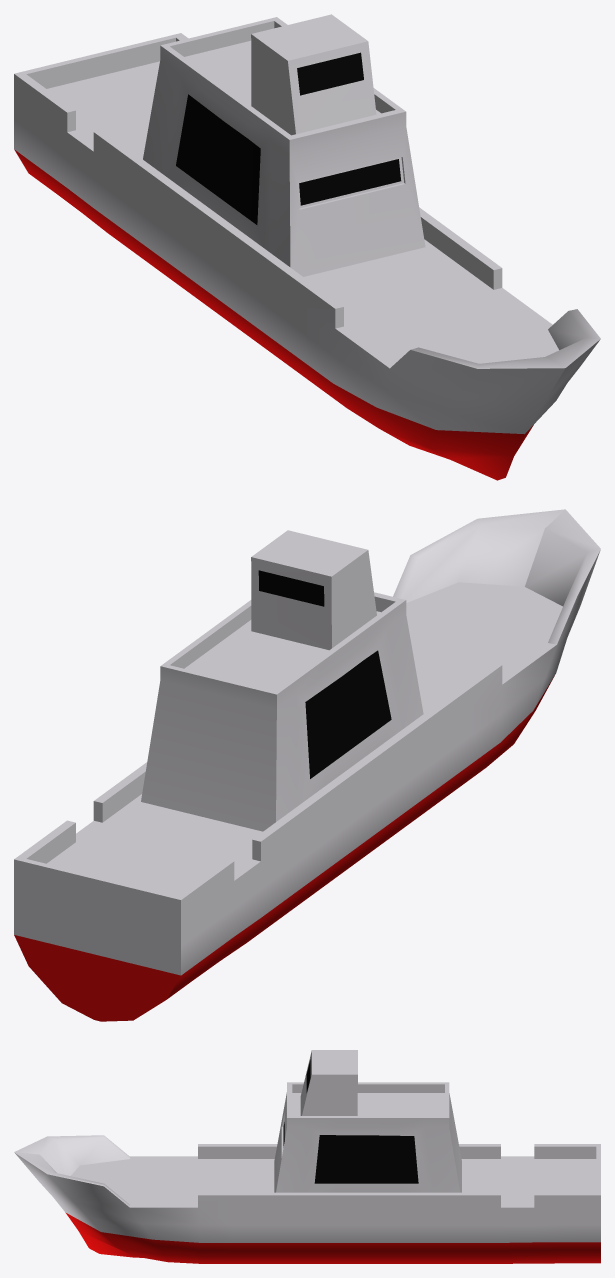
The model's file is boat.fbx.
3 views of the same model, one above another, from view 1: azimuth 30°, elevation 25°; view 2: azimuth 150°, elevation 25°; view 3: azimuth 270°, elevation 25° (orthographic). The views are drawn at different scales.
Visible parts, largest first — view 1: Cube; view 2: Cube; view 3: Cube.
Part boxes in pixels (x1=…): Cube: x1=14, y1=14, x2=600, y2=480; Cube: x1=14, y1=509, x2=600, y2=1021; Cube: x1=14, y1=1050, x2=600, y2=1263.
Size of the model in its own units: 398 by 712 by 1929.
